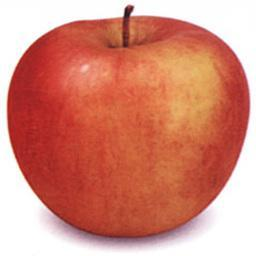apple: (5, 11, 249, 238)
